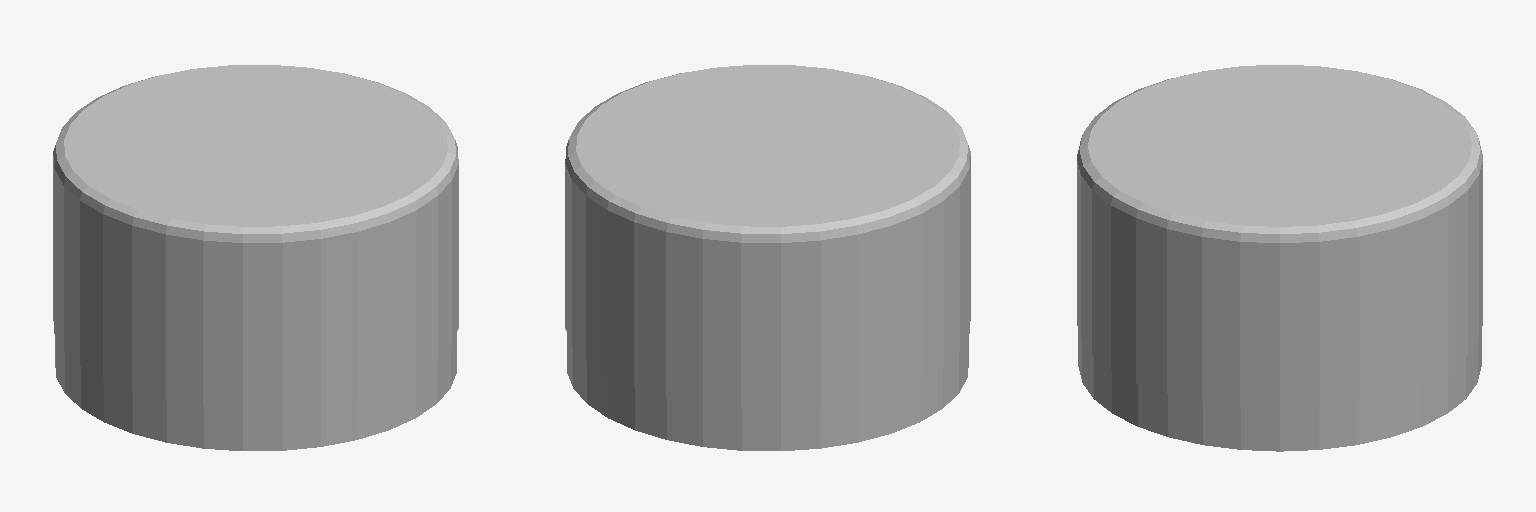
Rendered from mdl_tapa_nocarbonatada_CAF4_1816.obj.
The picture shows the model from 3 angles: view 1: azimuth 30°, elevation 25°; view 2: azimuth 150°, elevation 25°; view 3: azimuth 270°, elevation 25°; orthographic projection.
Visible parts, largest first — view 1: mdl_tapa_nocarbonatada_CAF4_1816; view 2: mdl_tapa_nocarbonatada_CAF4_1816; view 3: mdl_tapa_nocarbonatada_CAF4_1816.
Boxes of the visible parts, x1=… form: mdl_tapa_nocarbonatada_CAF4_1816: x1=53, y1=65, x2=458, y2=450; mdl_tapa_nocarbonatada_CAF4_1816: x1=565, y1=65, x2=970, y2=450; mdl_tapa_nocarbonatada_CAF4_1816: x1=1077, y1=65, x2=1482, y2=451.
Size of the model in its own units: 3.09 by 1.85 by 3.09.